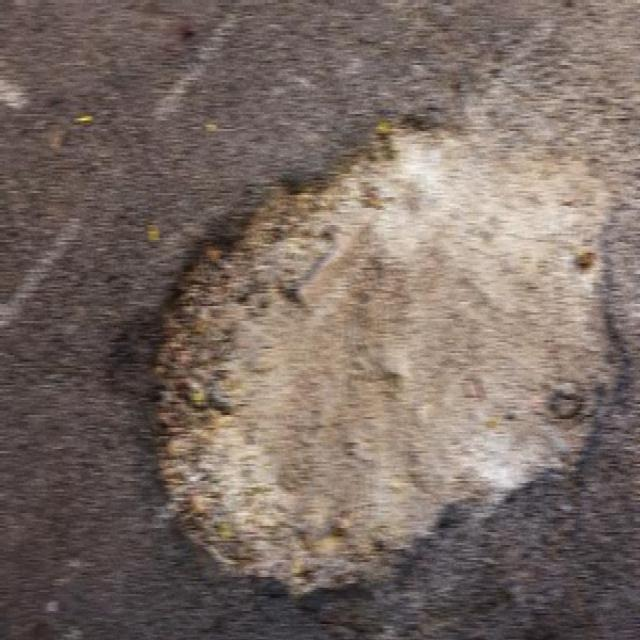Pothole: (103, 108, 640, 603)
